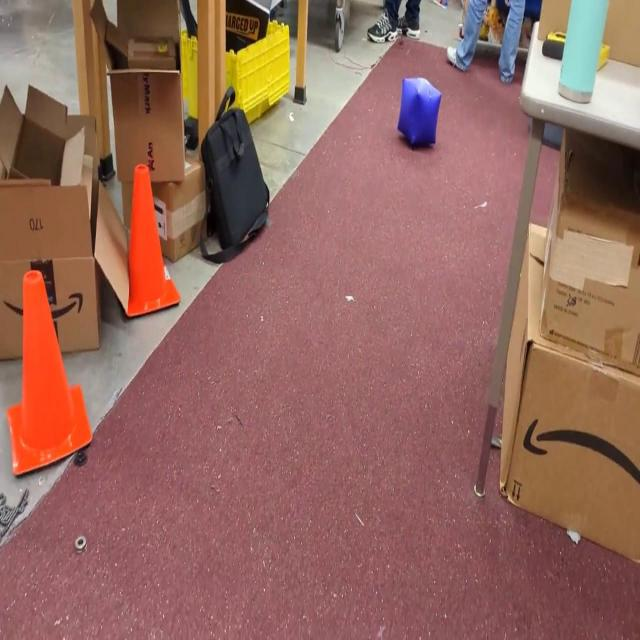frc_cube: (396, 74, 444, 150)
